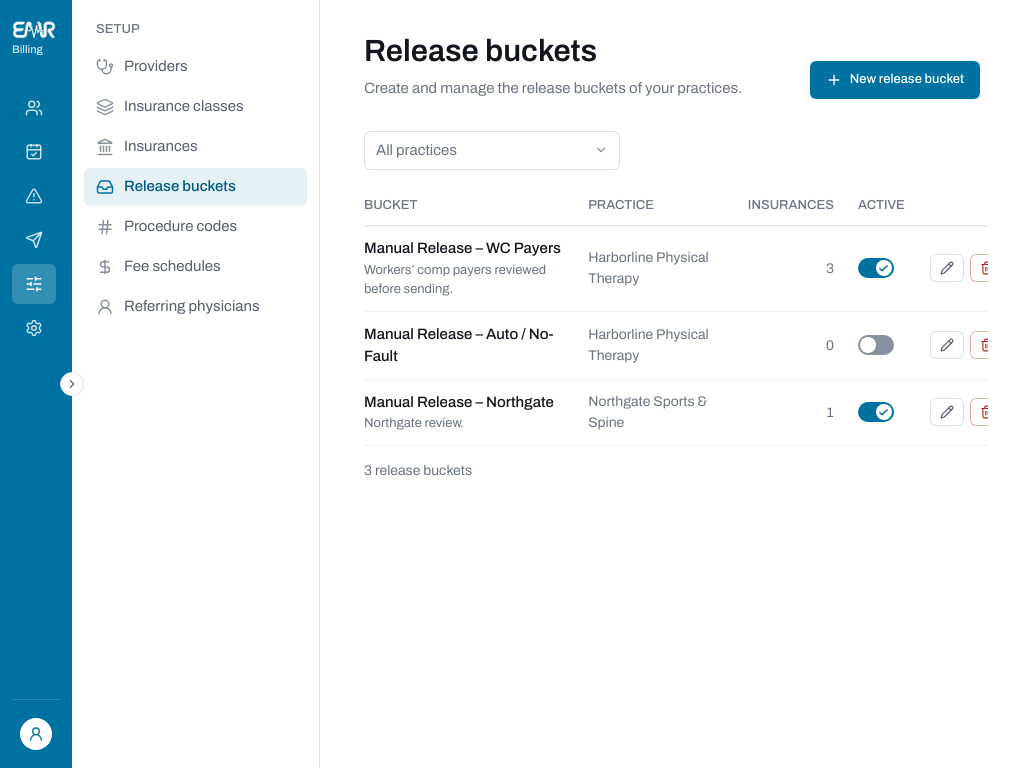
Setup → Release buckets › puts a server’s field error on the field, and keeps the dialog when saving fails
Click the button named "Edit Manual Release – WC Payers". click: point(947, 268)
box: [930, 254, 964, 282]
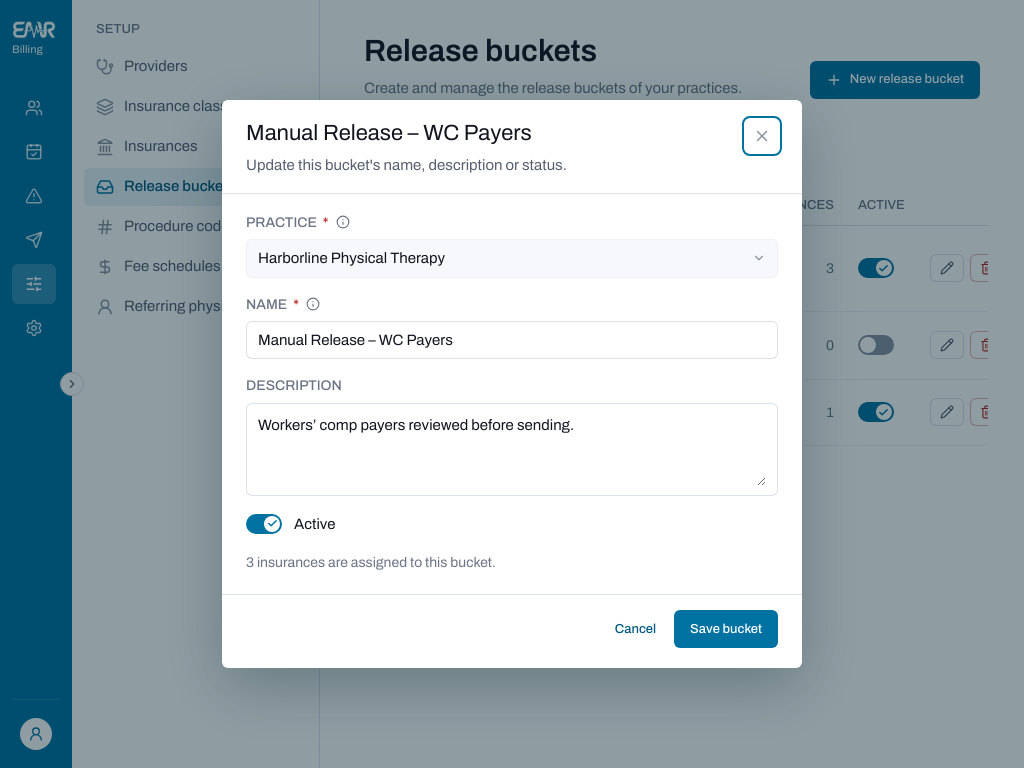
Expected: the field labelled "Name *" is shown, [258, 321, 766, 359]
Click the button "Save bucket". click: point(726, 629)
box: [674, 610, 778, 648]
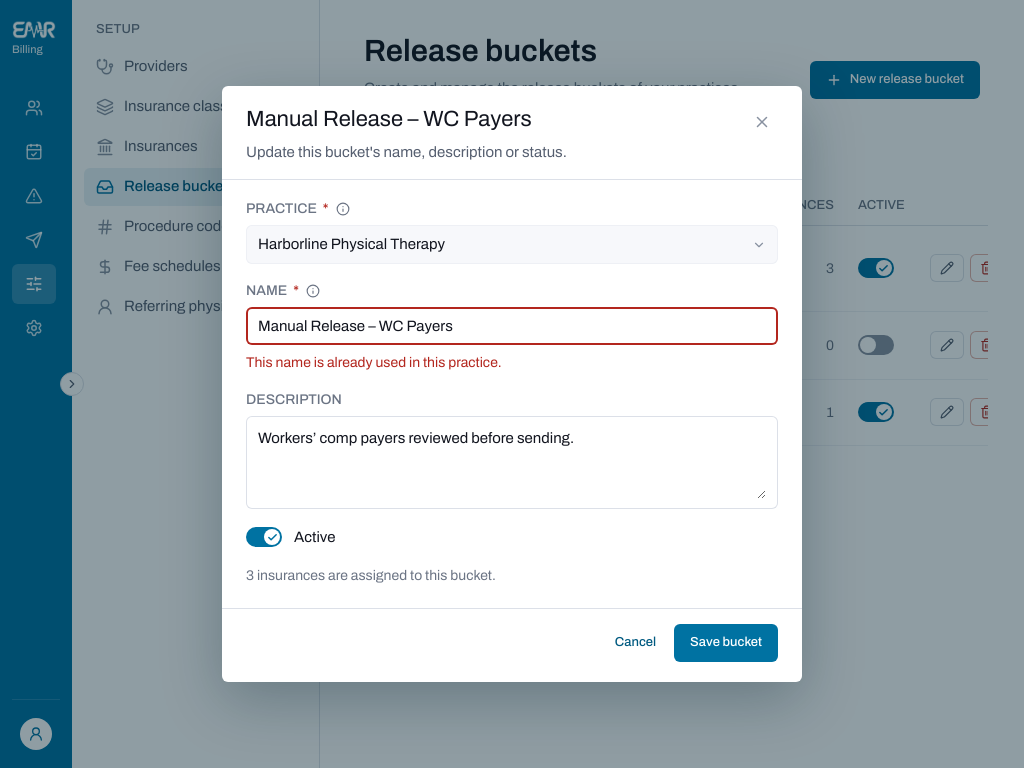
Expected: the text "This name is already used in this practice." is shown, [246, 355, 502, 370]
Click the button "Save bucket". click: point(726, 643)
box: [674, 624, 778, 662]
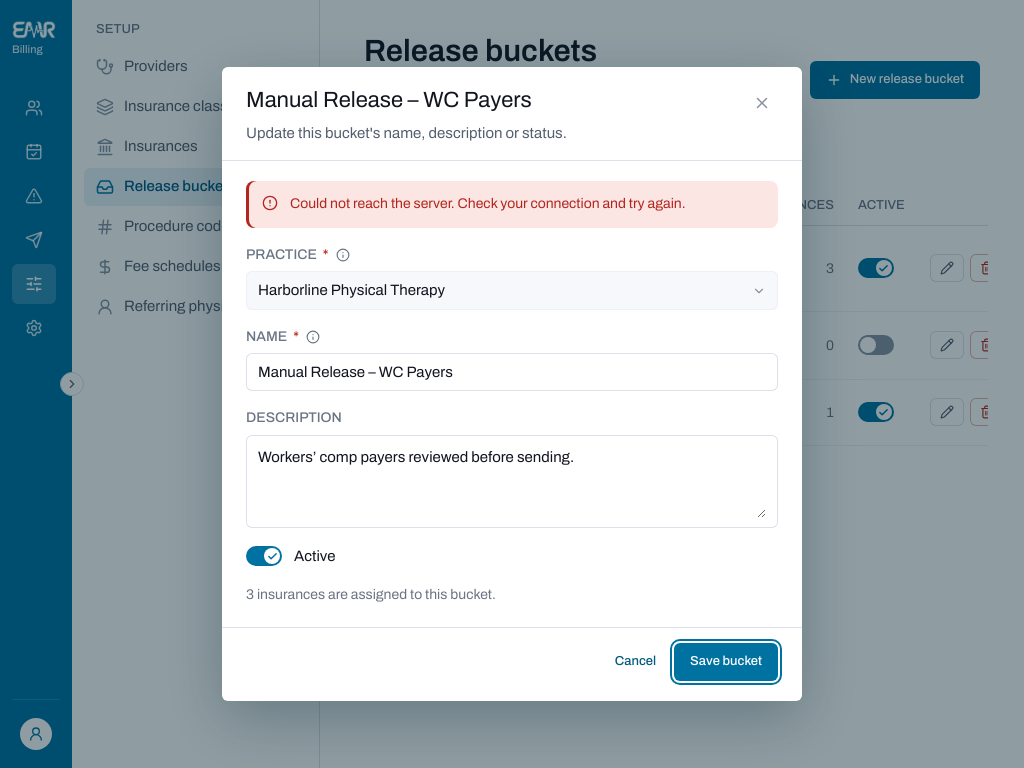
Expected: the dialog is shown, [222, 67, 802, 701]
Expected: the text "Could not reach the server" is shown, [290, 196, 686, 211]
